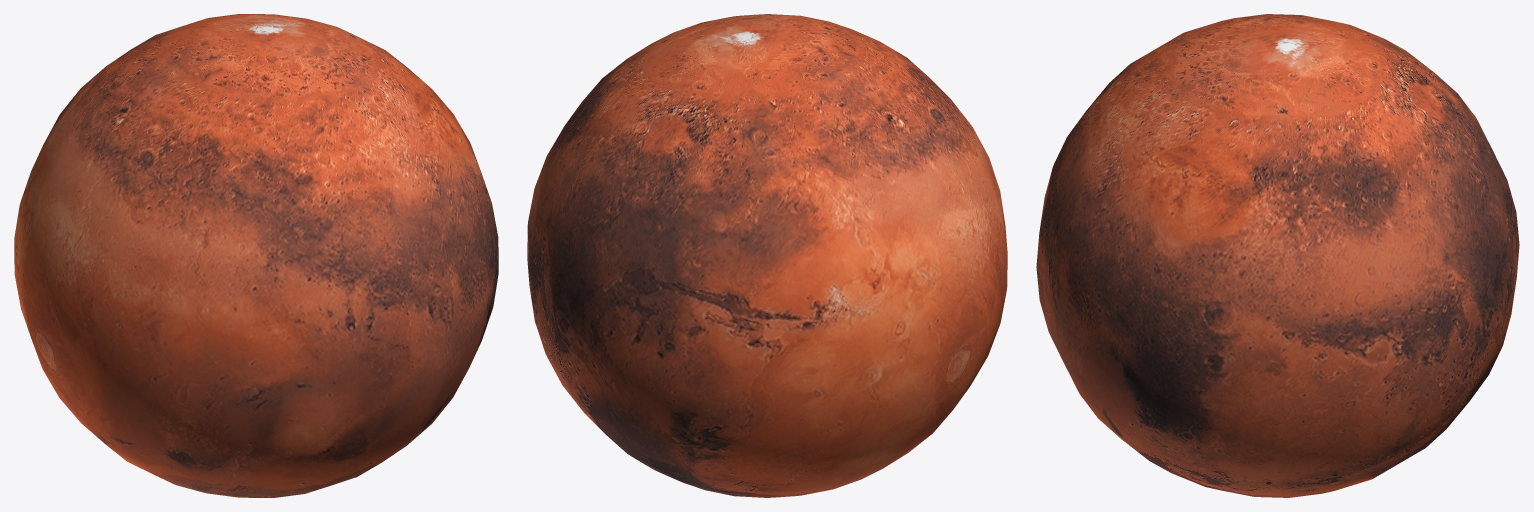
The model's file is mars.glb.
3 views of the same model, side by side, from view 1: azimuth 30°, elevation 25°; view 2: azimuth 150°, elevation 25°; view 3: azimuth 270°, elevation 25° (orthographic).
Visible parts, largest first — view 1: pasted__Mars2_0; view 2: pasted__Mars2_0; view 3: pasted__Mars2_0.
Boxes of the visible parts, x1=… form: pasted__Mars2_0: x1=14, y1=14, x2=498, y2=497; pasted__Mars2_0: x1=527, y1=14, x2=1007, y2=497; pasted__Mars2_0: x1=1036, y1=14, x2=1519, y2=497.
Size of the model in its own units: 0.0864 by 0.0867 by 0.0867.
Materials: 1 (1 with a texture image).
